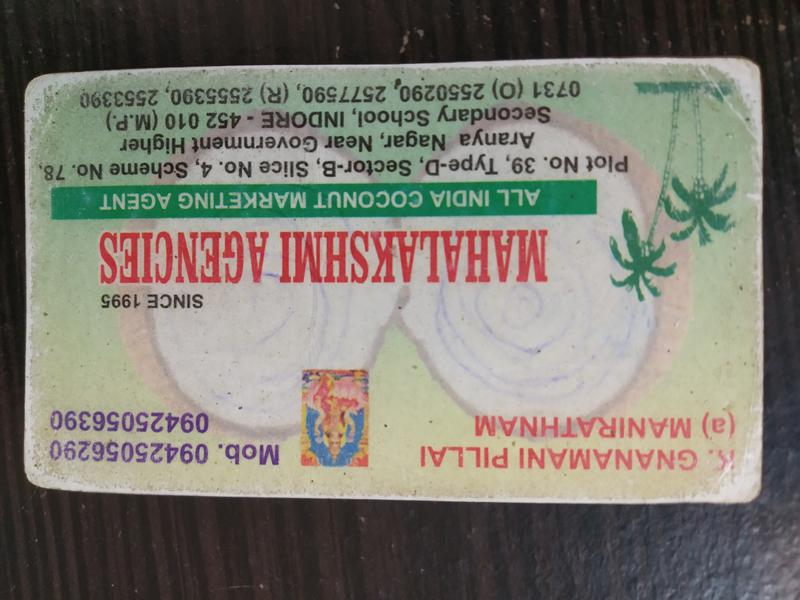card: (21, 59, 762, 504)
